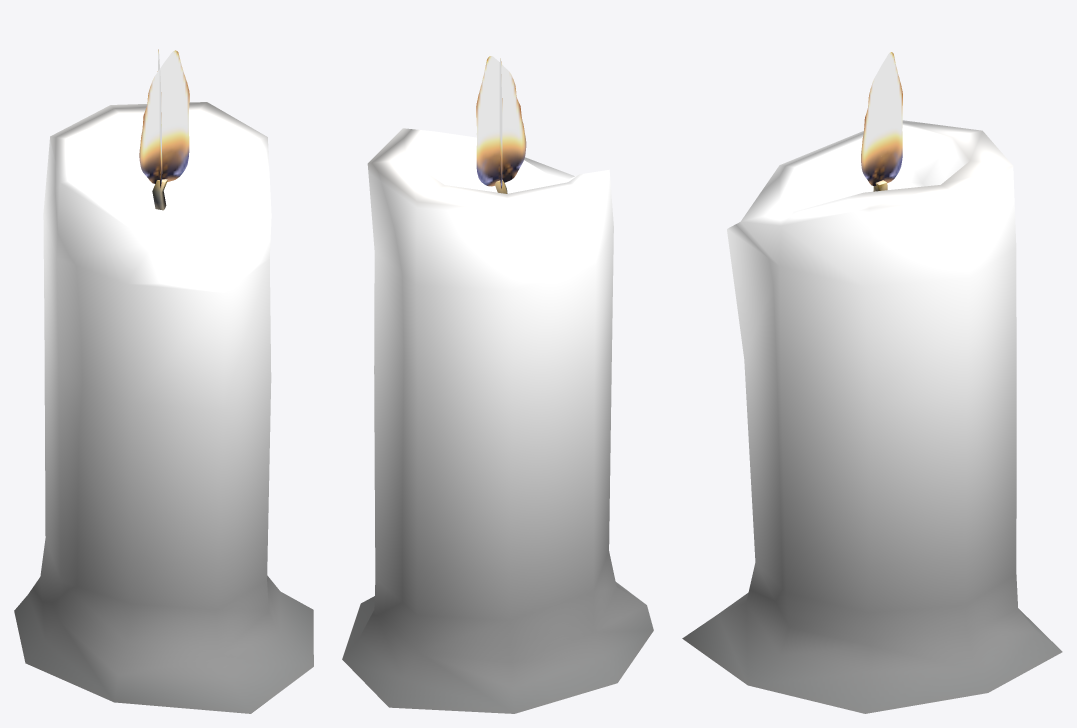
The model's file is CandleShapeB.009.glb.
3 renders of one model, left to right at view 1: azimuth 30°, elevation 25°; view 2: azimuth 150°, elevation 25°; view 3: azimuth 270°, elevation 25°, orthographic.
Visible parts, largest first — view 1: CandleShapeB.009; view 2: CandleShapeB.009; view 3: CandleShapeB.009.
Boxes of the visible parts, box(x1,y1,x2,y2) form: CandleShapeB.009: box(14, 49, 313, 713); CandleShapeB.009: box(342, 56, 653, 713); CandleShapeB.009: box(682, 52, 1062, 713).
Size of the model in its own units: 0.0966 by 0.2031 by 0.117.
2 materials, 2 textured.
